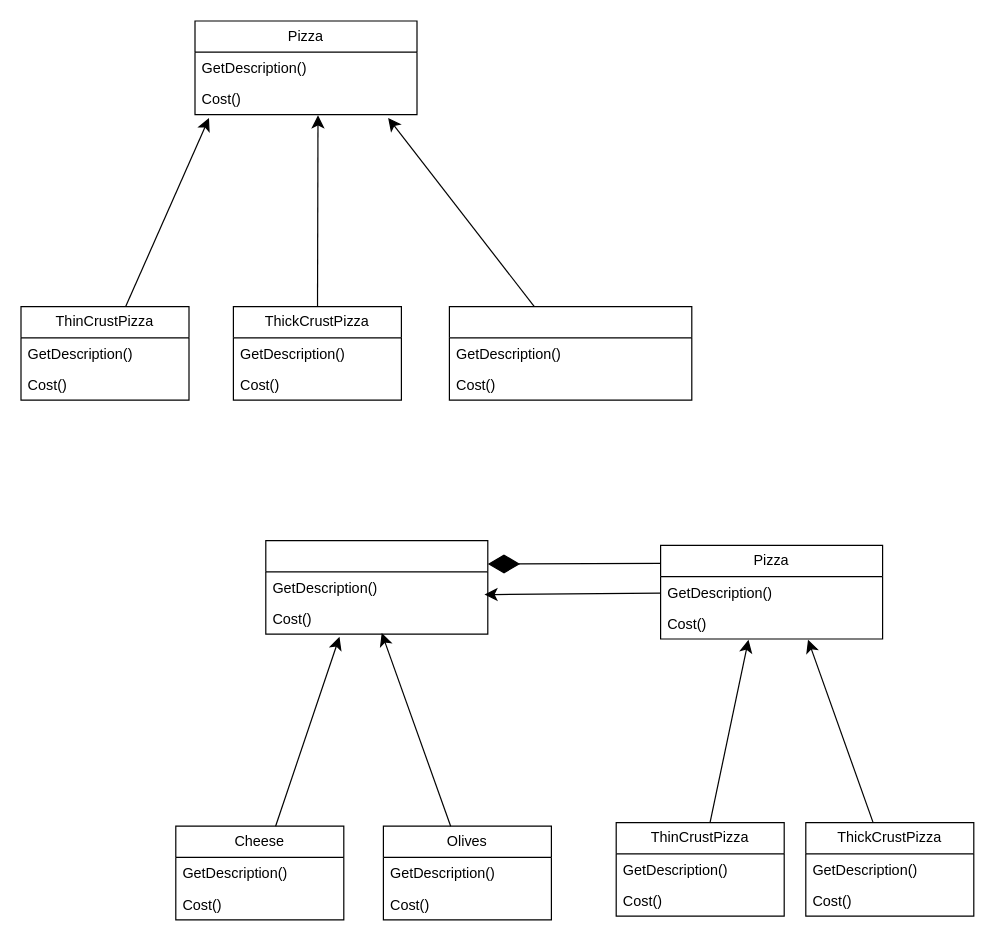
Image size: 995x944. Some labels were removed from this diagram. Each missing label, with the box of its shape:
ThinCrustPizzaWithExtraCheese: (448, 305, 692, 400)
ToppingDecorator: (265, 539, 488, 634)
